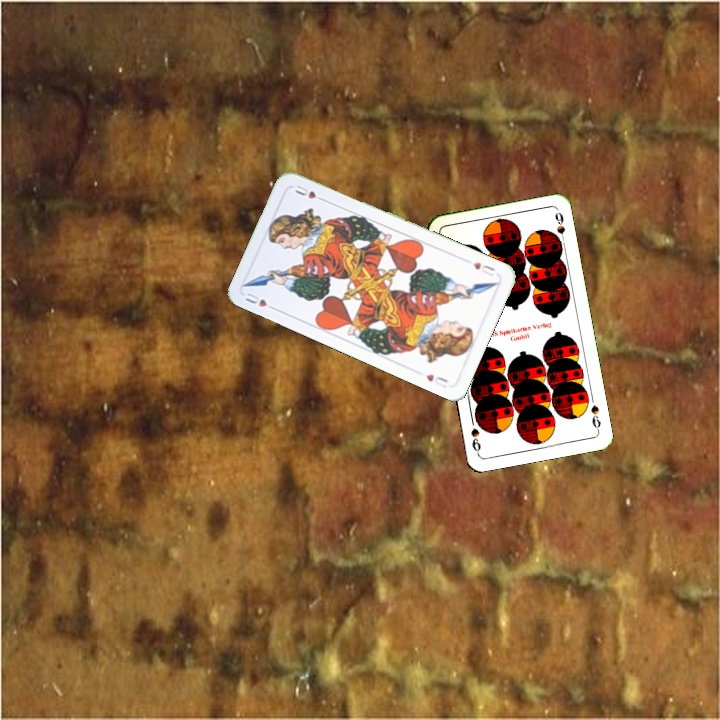HU: (241, 289, 279, 313), (469, 258, 497, 279)
S9: (587, 401, 603, 434)
